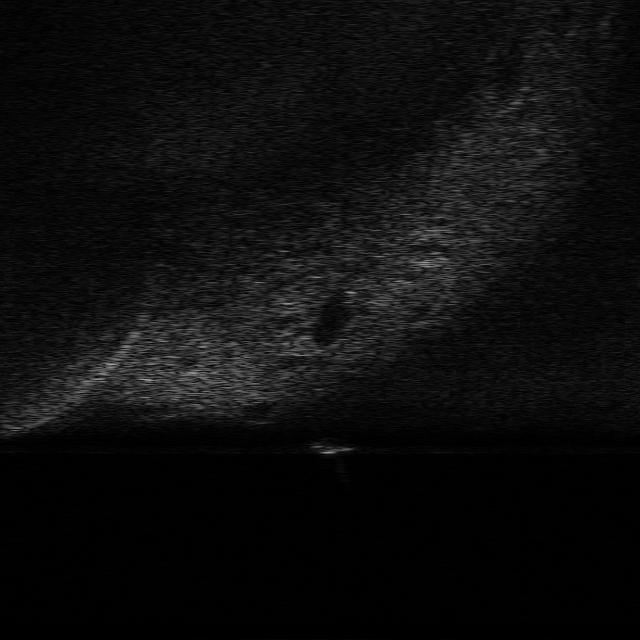cube: (306, 435, 360, 459)
